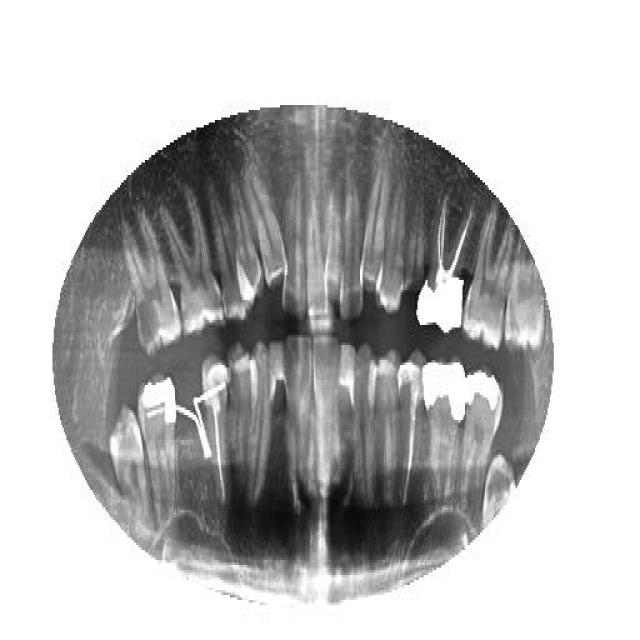Cavity: (125, 217, 181, 355), (402, 188, 426, 312)
Fillings: (136, 375, 179, 523), (422, 360, 466, 502), (462, 370, 502, 508)
Implant: (416, 195, 475, 335), (200, 355, 231, 505), (398, 352, 422, 512)
